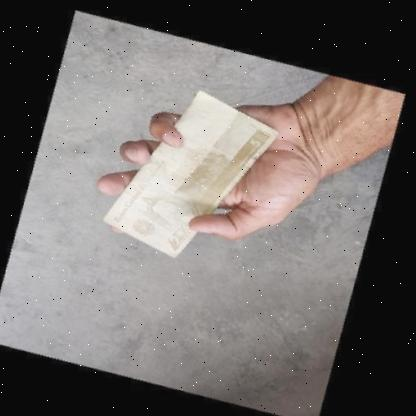five-back-vef: (96, 81, 288, 263)
